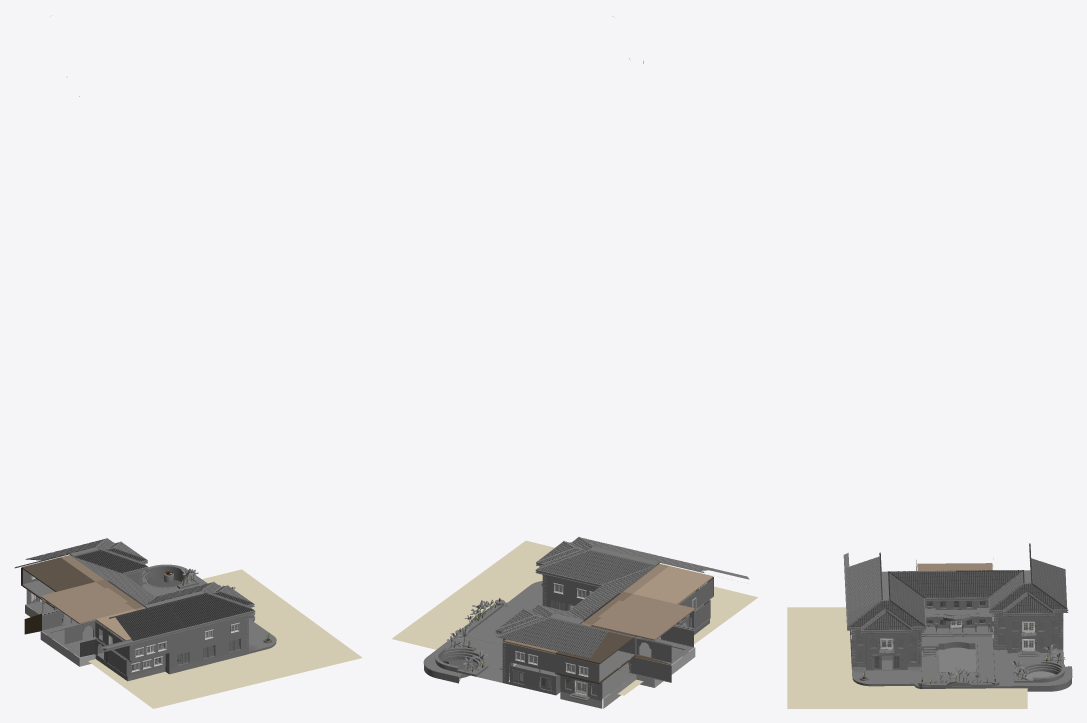
3 views of the same model, side by side, from view 1: azimuth 30°, elevation 25°; view 2: azimuth 150°, elevation 25°; view 3: azimuth 270°, elevation 25° (orthographic). The views are drawn at different scales.
Visible parts, largest first — view 1: Terrain 3,0, Roma Center (×3), Roma Right back (×3), Roma Left, Roma Right back roof, Roma Left back roof, Roma Left back; view 2: Terrain 3,0, Roma Center (×3), Roma Left (×5), Roma Left back (×4), Roma Right back (×3), roma Right; view 3: Terrain 3,0, Roma Right back (×6), Roma Left back (×4), Roma Center roof (×4), Roma Center (×2).
Boxes of the visible parts, x1,y1,x2,y2 form: Terrain 3,0: (88, 569, 362, 708); Roma Center (×3): (24, 582, 133, 666); Roma Right back (×3): (169, 616, 276, 669); Roma Left: (21, 557, 94, 591); Roma Right back roof: (100, 610, 255, 652); Roma Left back roof: (76, 550, 145, 572); Roma Left back: (143, 570, 187, 588); Terrain 3,0: (392, 540, 757, 695); Roma Center (×3): (592, 594, 695, 687); Roma Left (×5): (555, 625, 671, 708); Roma Left back (×4): (423, 635, 560, 692); Roma Right back (×3): (465, 575, 598, 645); roma Right: (633, 566, 713, 604); Terrain 3,0: (787, 607, 1027, 708); Roma Right back (×6): (851, 626, 994, 686); Roma Left back (×4): (993, 613, 1072, 691); Roma Center roof (×4): (891, 571, 1021, 597); Roma Center (×2): (917, 563, 992, 621).
Bounding box in the file's own units: 71.72 × 186 × 75.93.
Materials: 379 (370 with a texture image).
